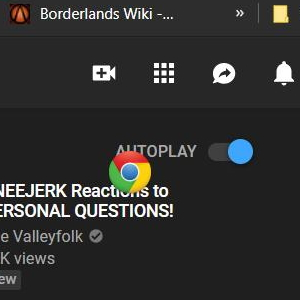chrome: (107, 151, 152, 194)
